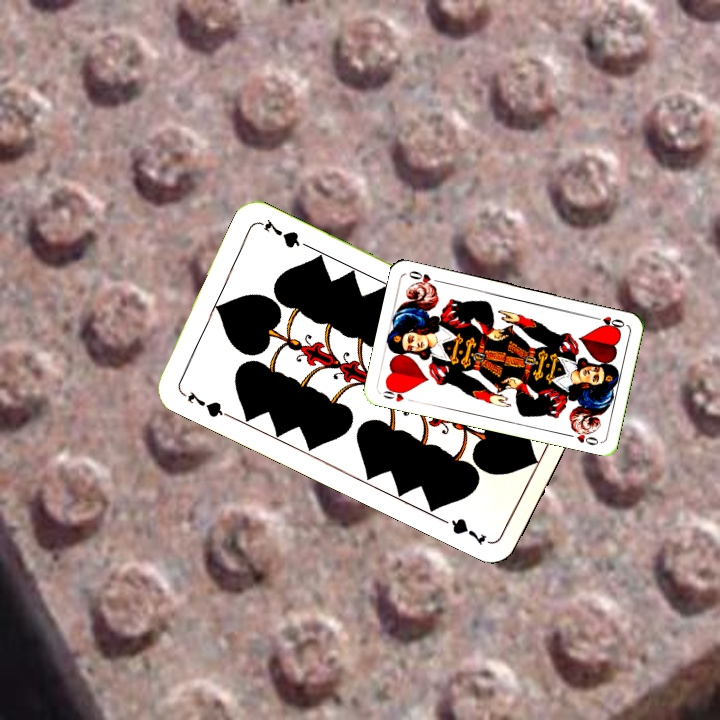G7: (176, 387, 231, 420)
HO: (379, 383, 418, 405), (588, 312, 627, 330)
